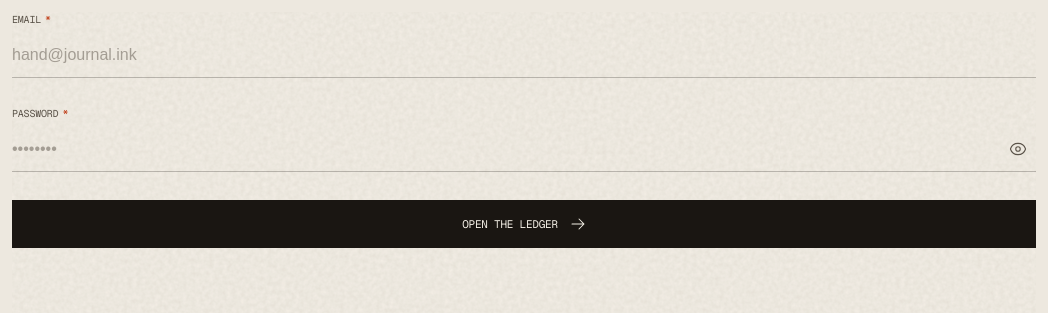
Test case: auth flow › shows an error for invalid login credentials
Type "randomUser@test.com" into the field with test id "auth-login-email" at [524, 55], box [12, 33, 1036, 77]
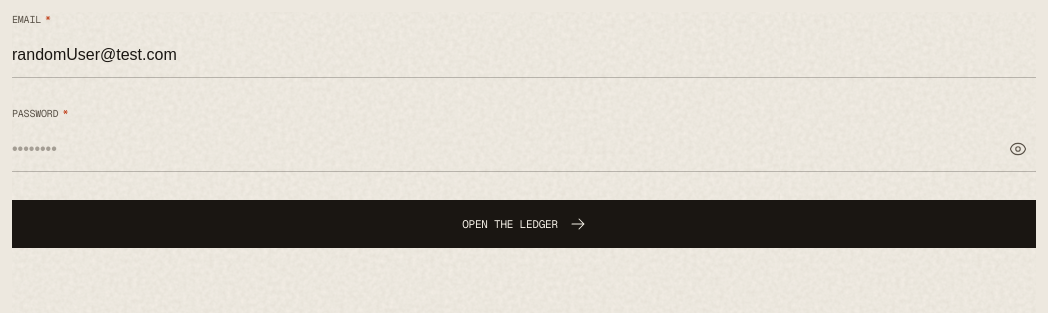
Type "randomPassword" into the password field with test id "auth-login-password" at [502, 149], box [12, 127, 992, 171]
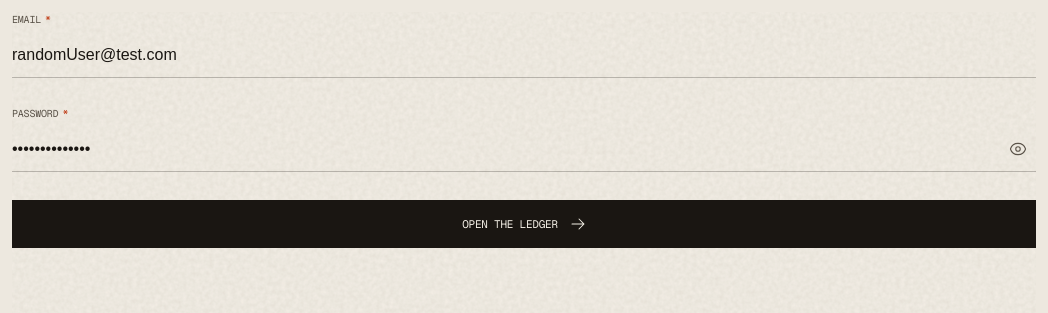
Click the button with test id "auth-login-submit" at [524, 224], box [12, 200, 1036, 248]
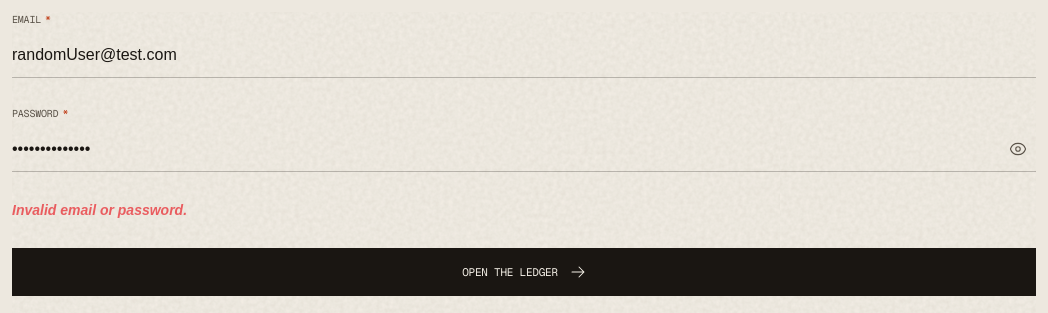
Expected: the text "Invalid email or password." is shown, [12, 202, 187, 218]
